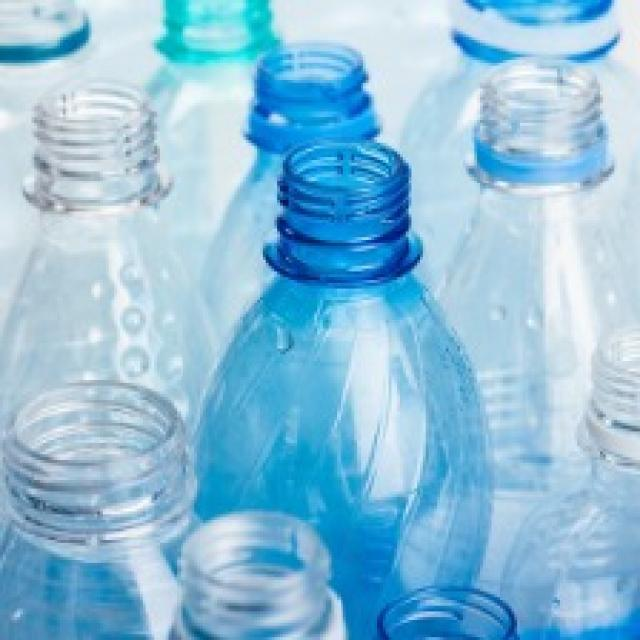plastic_bottle: (205, 160, 502, 519), (17, 95, 201, 396), (1, 400, 224, 542), (453, 69, 629, 189), (219, 509, 330, 589)
